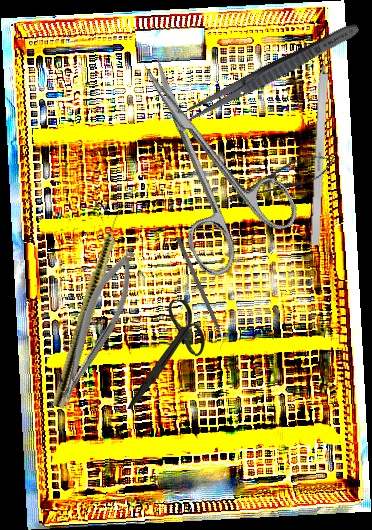Chopper: (169, 236, 229, 351)
Dressing Forceps: (179, 18, 363, 128)
Handpiece: (50, 199, 131, 410)
Hook Surgical: (309, 34, 332, 246)
Iris Scissors: (104, 32, 308, 283), (126, 299, 206, 411)
Needle Holder: (42, 244, 148, 413), (223, 146, 340, 212)
